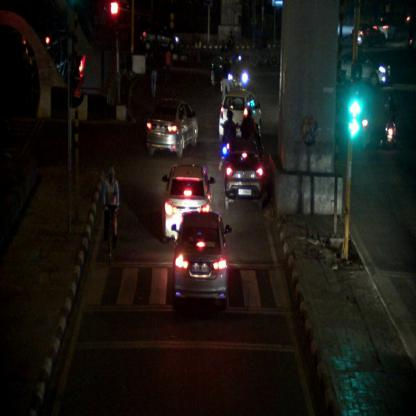car: (171, 214, 231, 304), (162, 164, 215, 244), (146, 99, 198, 158), (225, 142, 262, 212), (338, 46, 390, 86), (219, 88, 261, 136), (211, 52, 248, 93)
motorcycle: (219, 112, 235, 173), (383, 92, 398, 148)
